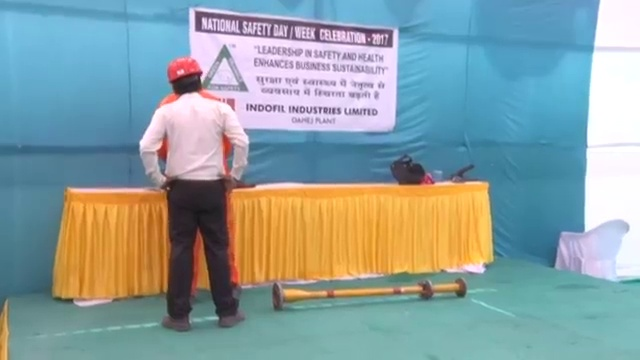helmet: (165, 55, 203, 83)
helmet_on: (166, 55, 205, 96)
person: (141, 55, 249, 328)
